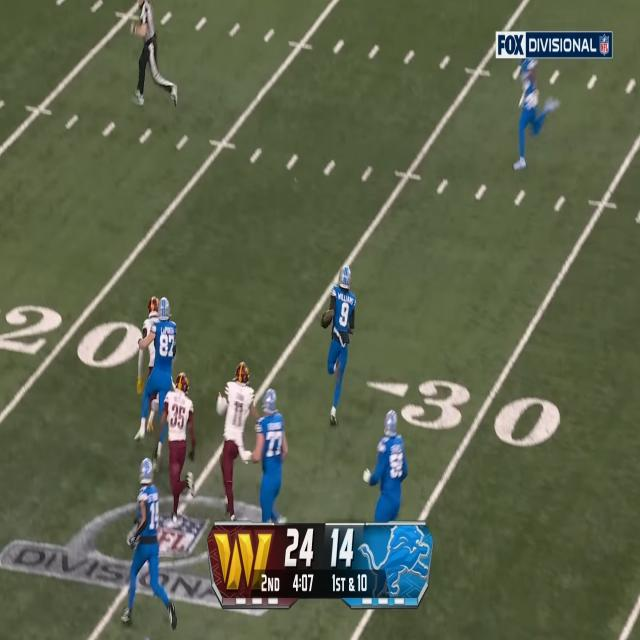Ball: (320, 310, 334, 331)
